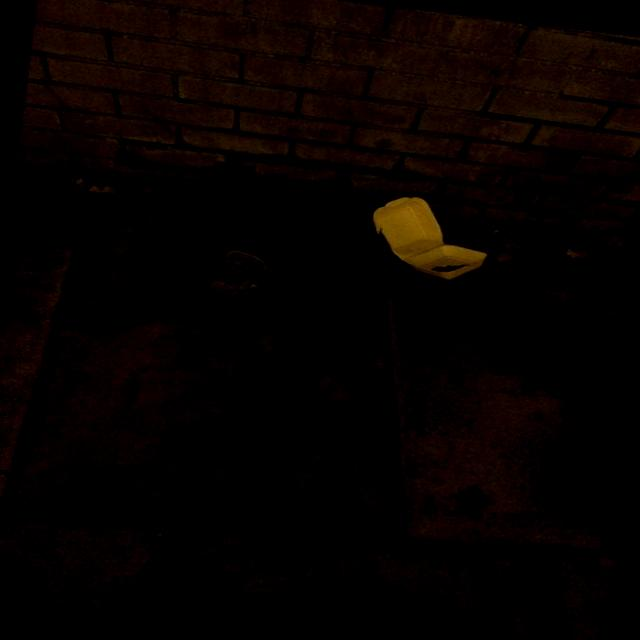Trash: (362, 189, 498, 286)
